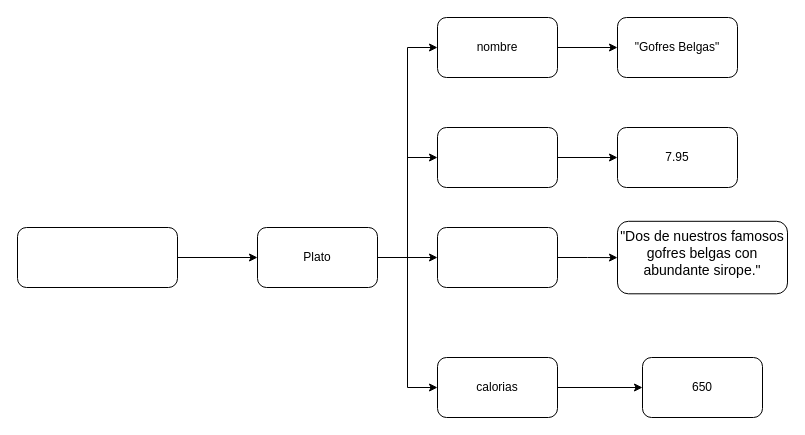
The diagram is 805 pixels wide and 435 high, and some of its shapes have lost their labels. The box of each missing label's shape, as (x1, y1, x2, y2) in pixels:
descripcion: (436, 226, 558, 288)
informacion_nutricional: (16, 226, 178, 288)
precio: (436, 126, 558, 188)
